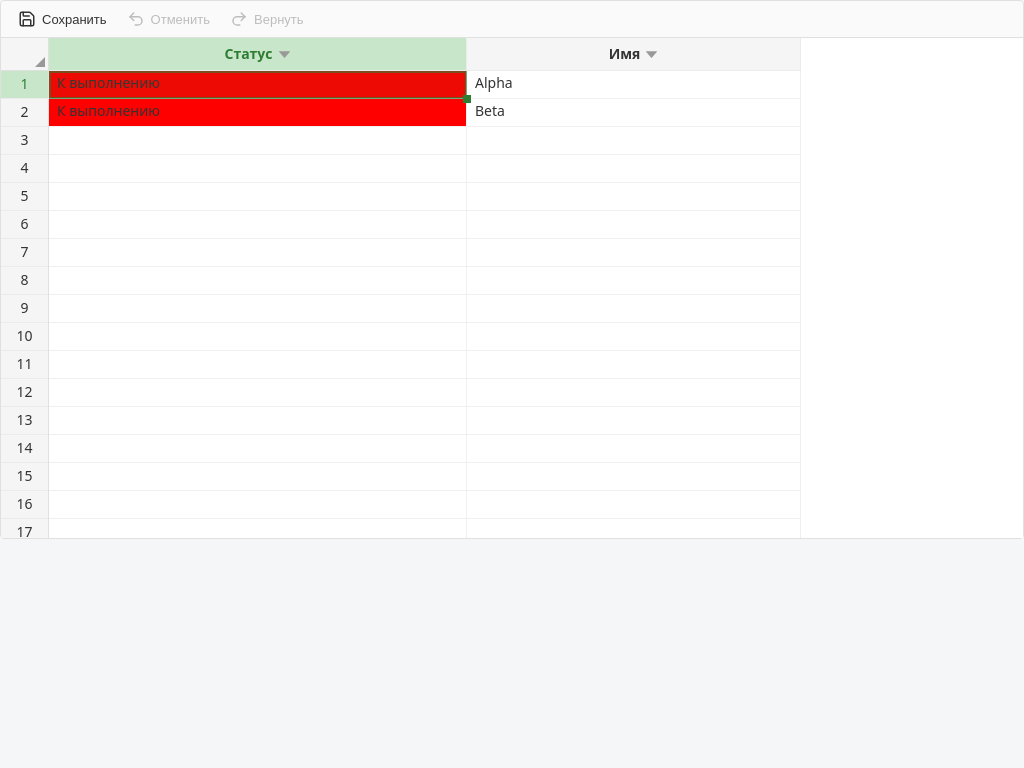
Test: NativeTable: select-редактор › Escape закрывает редактор и возвращает заливку без изменения значения
Double-click the element showing "К выполнению" next to "Alpha" at [258, 85], box [49,71,467,99]
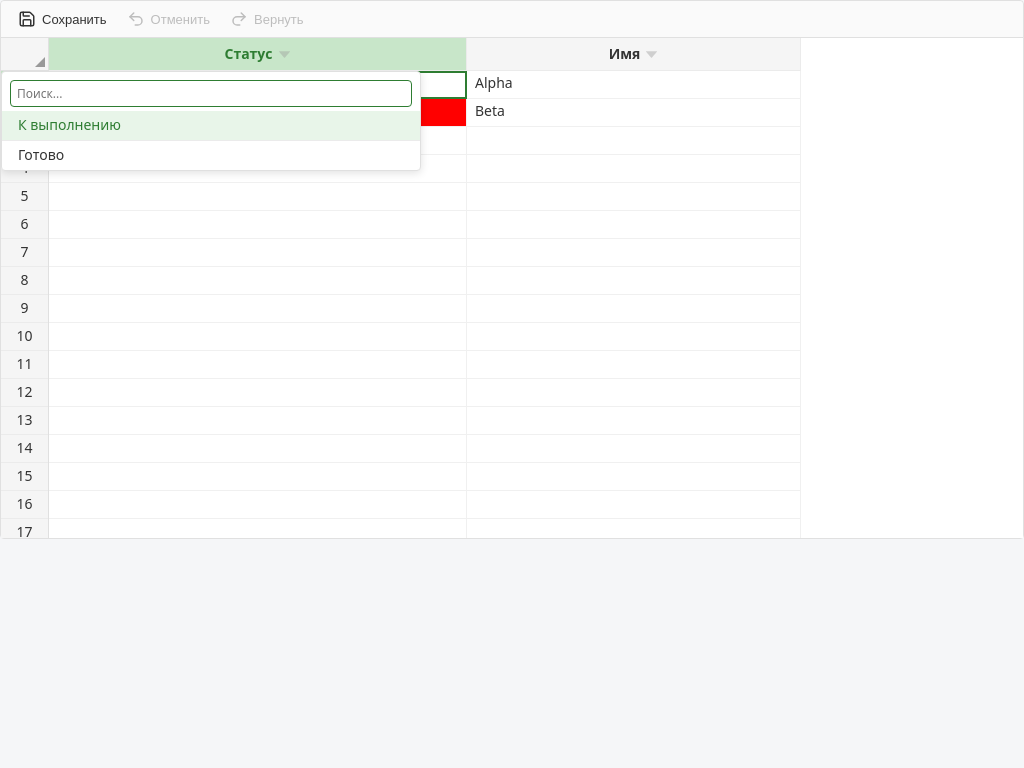
Press Escape
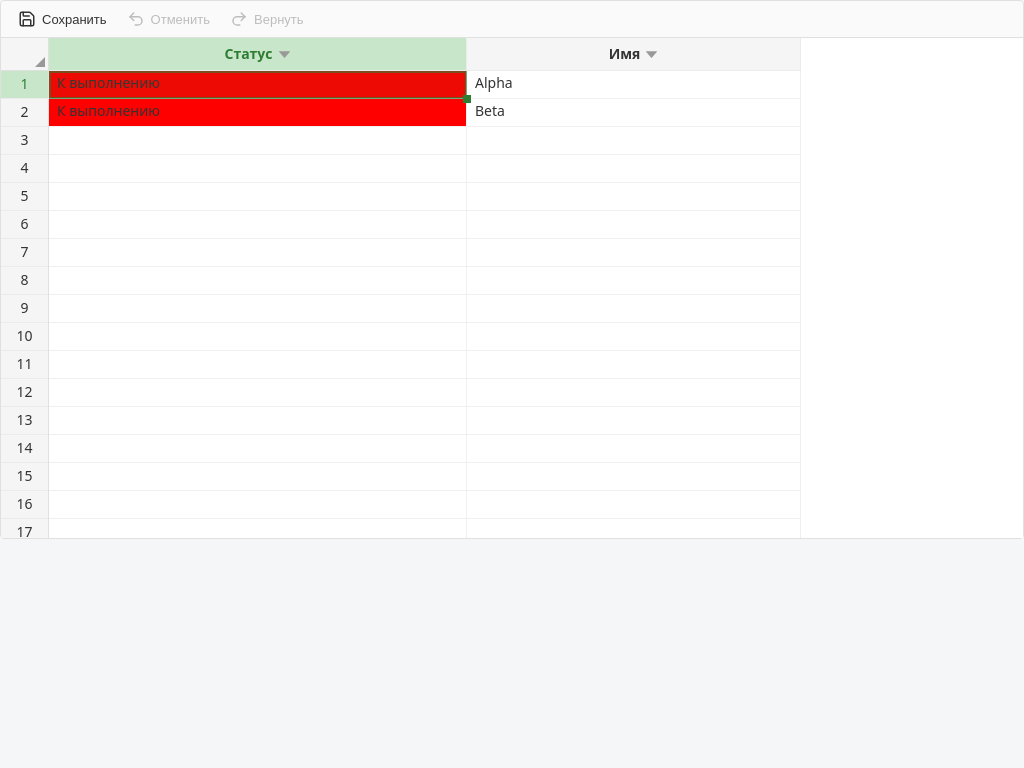
Expected: the text with class "nt-cell-text" next to "Alpha" reads "К выполнению", [57,73,160,92]
Result: the element with class "nt-editor" is gone
